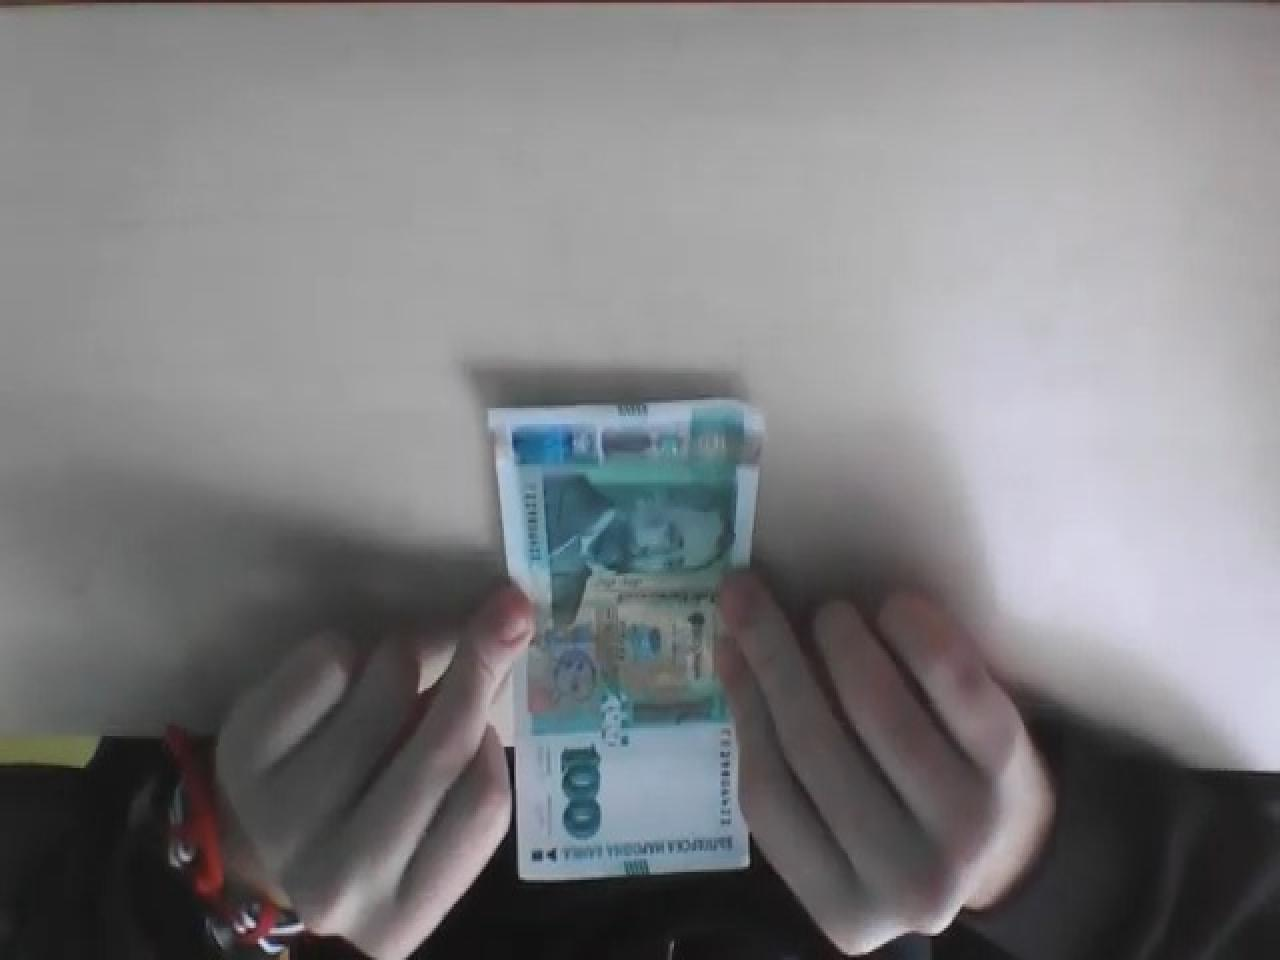100leva: (484, 392, 766, 882)
